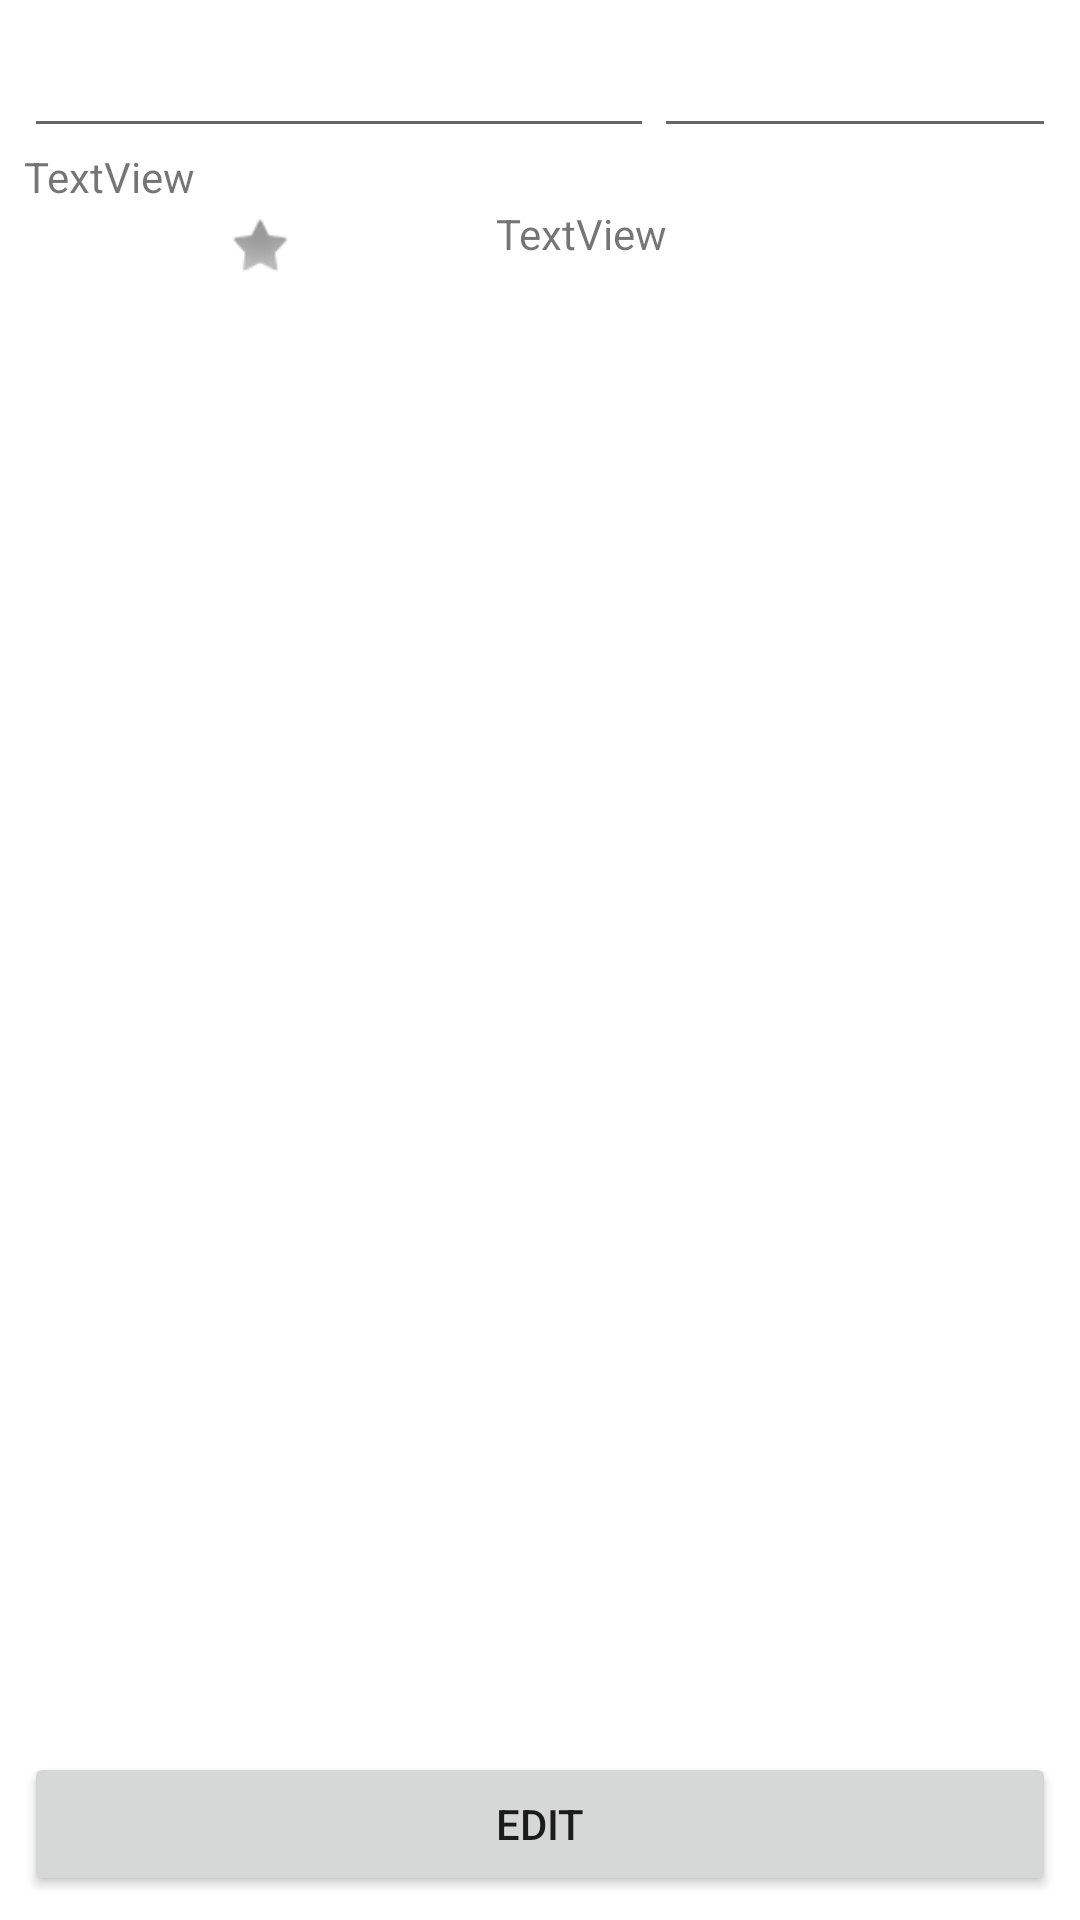

Named icons in this screenshot (1080 x 1920) and their bounding boxes, (x1, y1, x2, y2):
star off: (234, 219, 287, 270)
